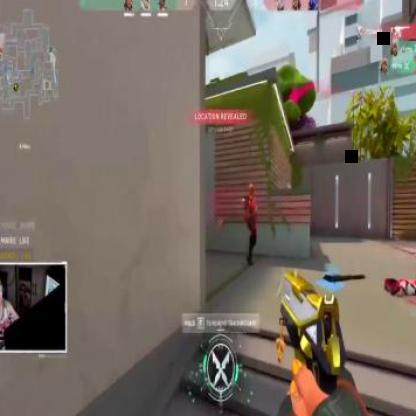enemy: (240, 185, 260, 265)
enemy_head: (249, 181, 255, 199)
